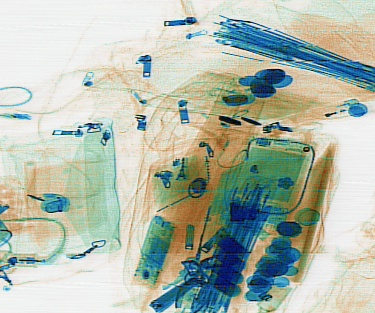lighter: (288, 97, 359, 124)
